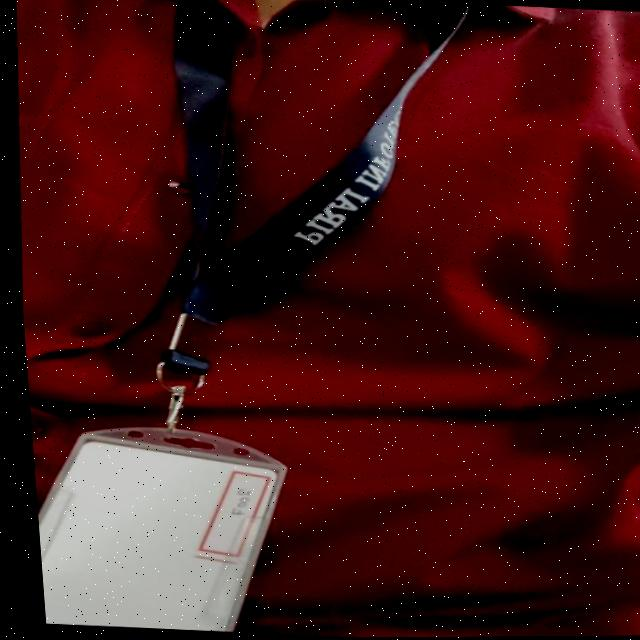id_card: (0, 0, 507, 640)
